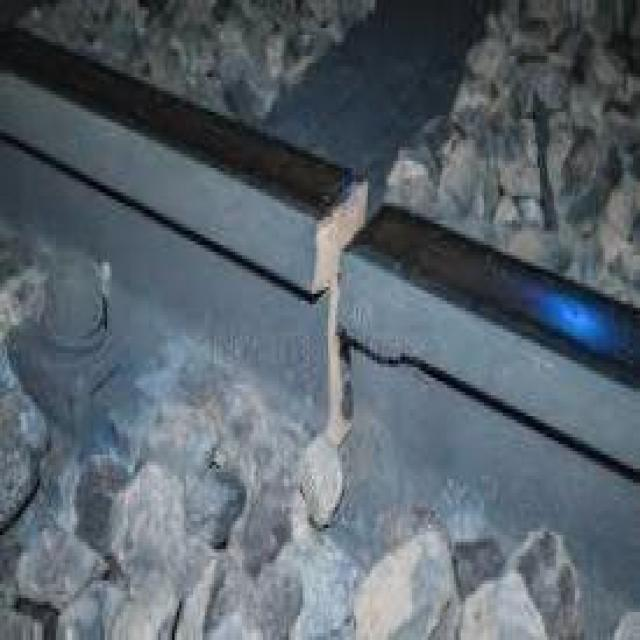crack: (268, 164, 417, 501)
